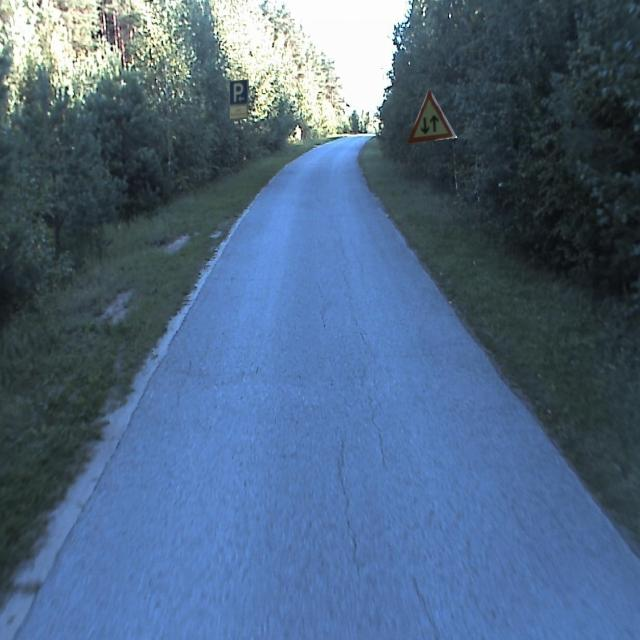road: (16, 133, 639, 639)
